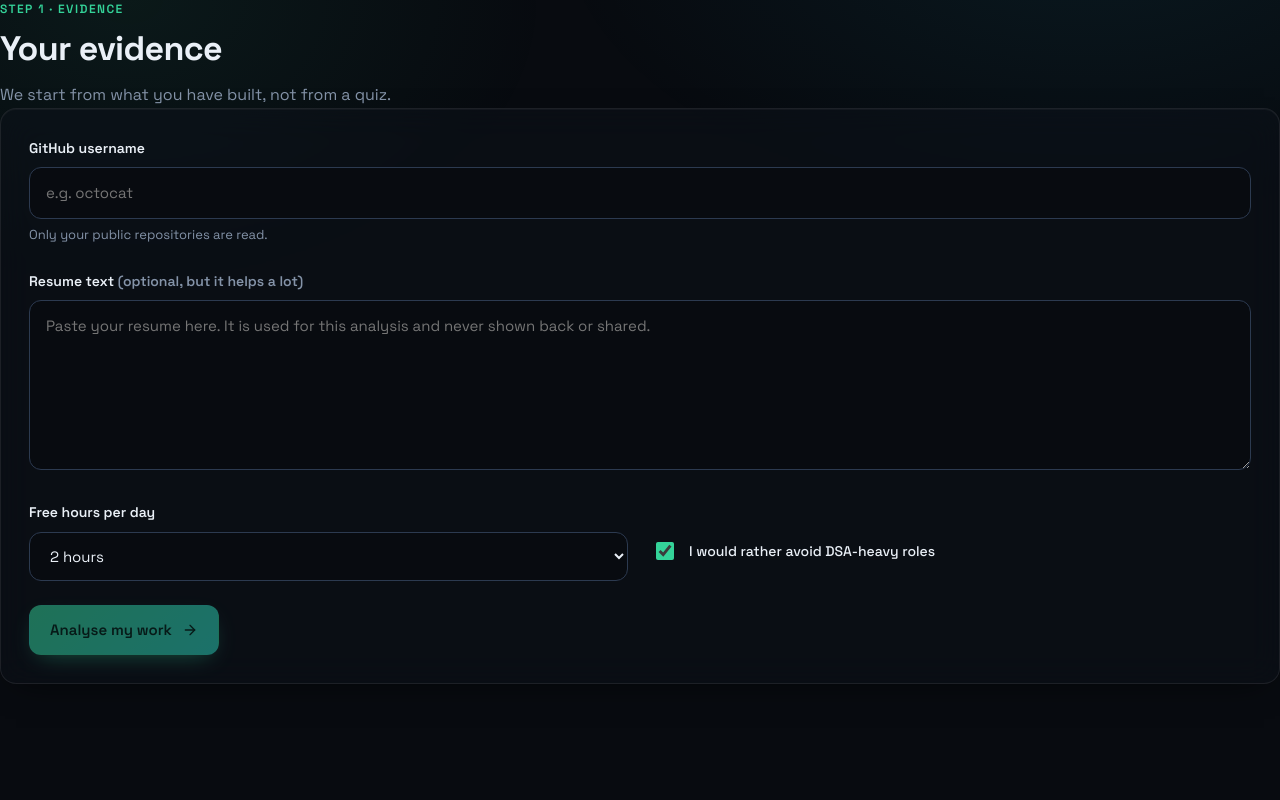
it: Profile page › shows the server error (e.g. unknown user) and keeps the form
Type "ghost" into the field labelled "GitHub username" at (640, 193), box [29, 167, 1251, 219]
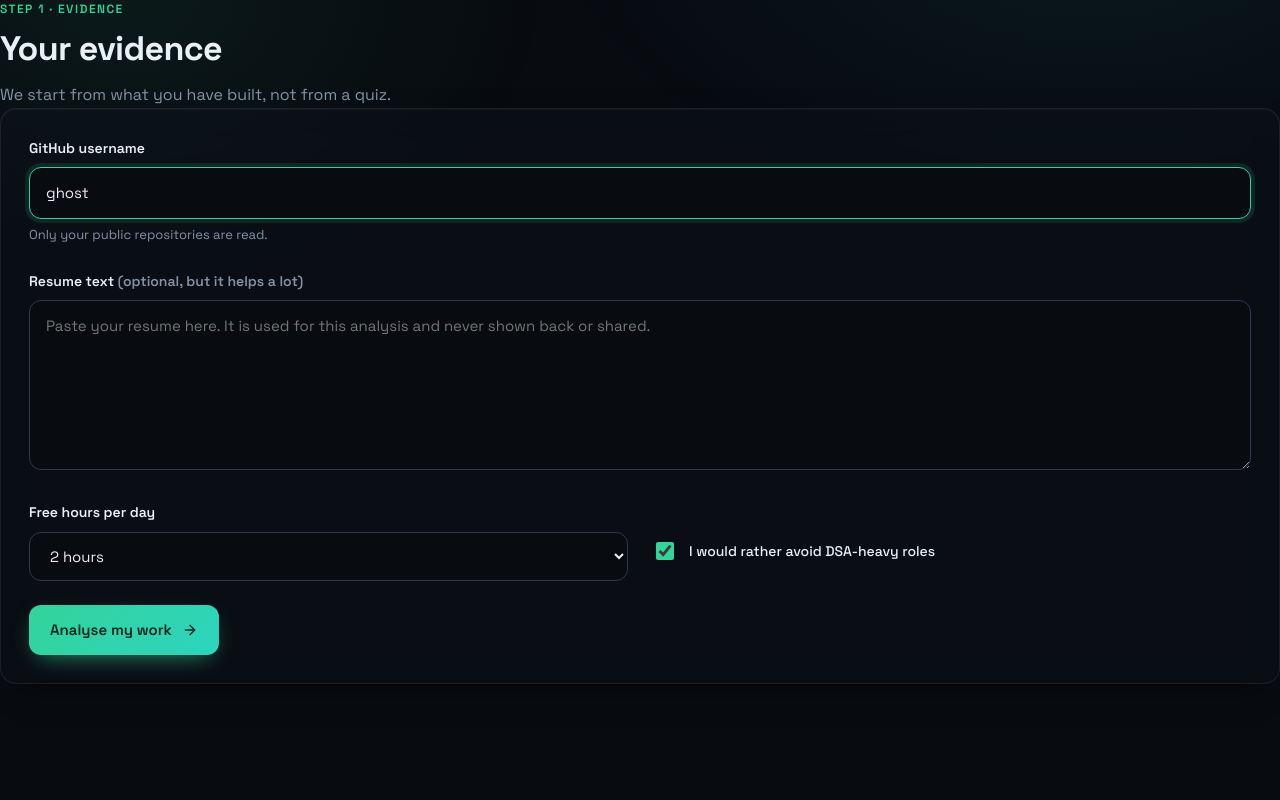
Click the button "Analyse my work" at (124, 630), box [29, 604, 219, 654]
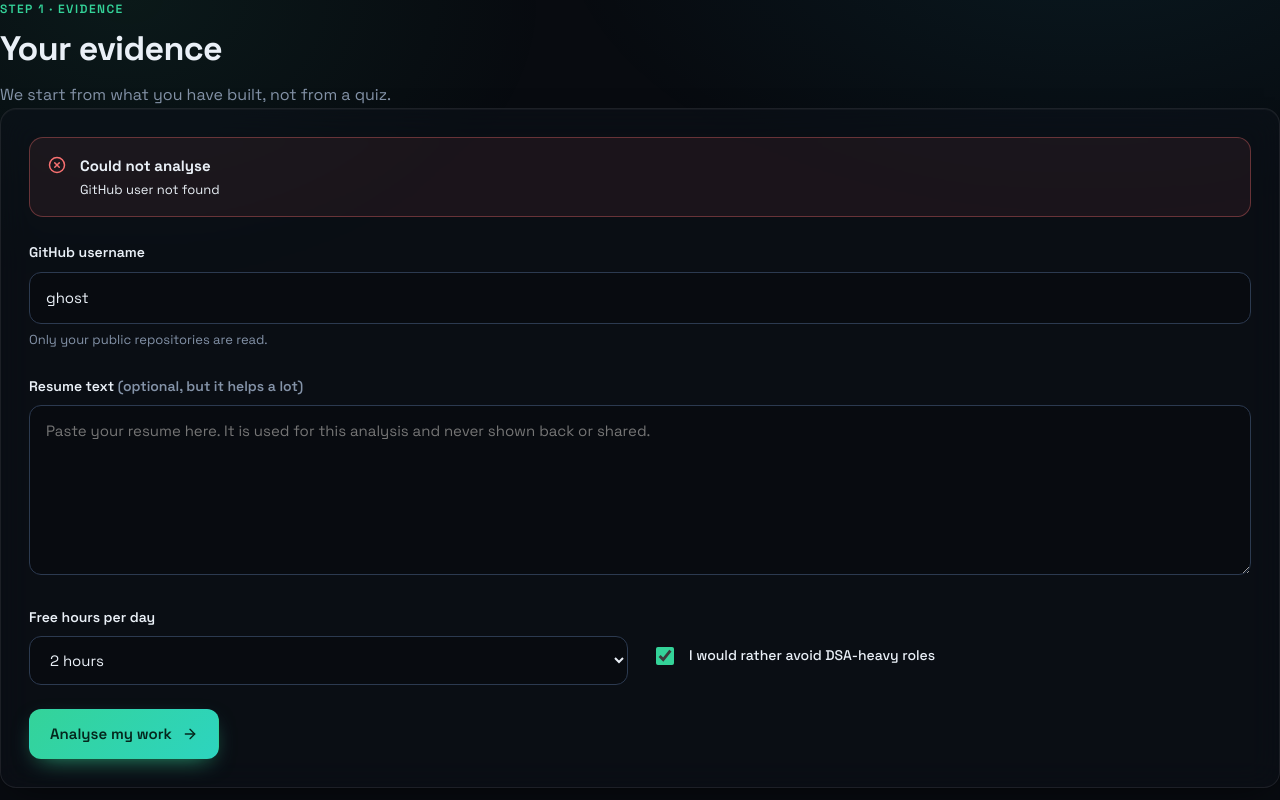
Expected: the message shows "GitHub user not found", [80, 181, 220, 198]
